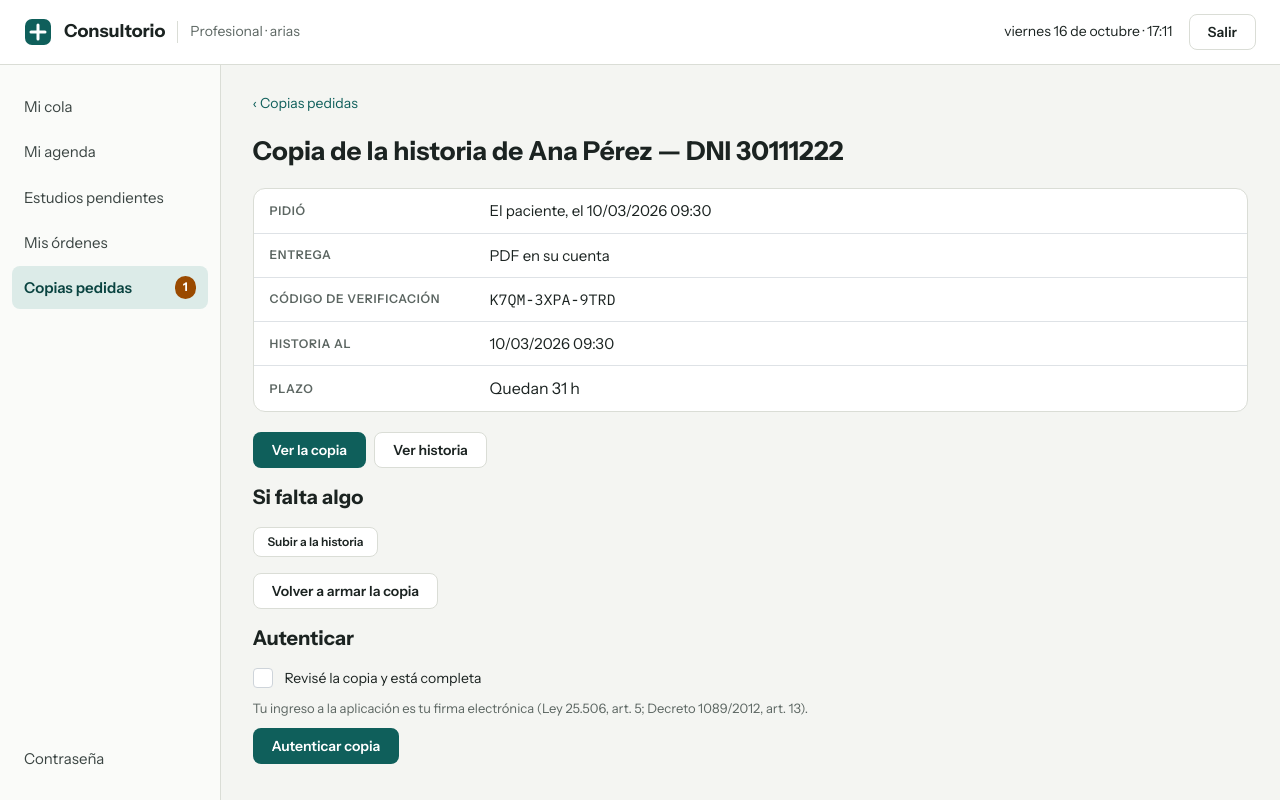
a copy › is opened in the browser, put together again, and authenticated saying it was reviewed, of the assembly seen
Check: the text "Quedan 31 h" is shown, box [490,378,580,398]
Click the button "Volver a armar la copia" at (345, 591), box [252,573,438,609]
(page scrolled)
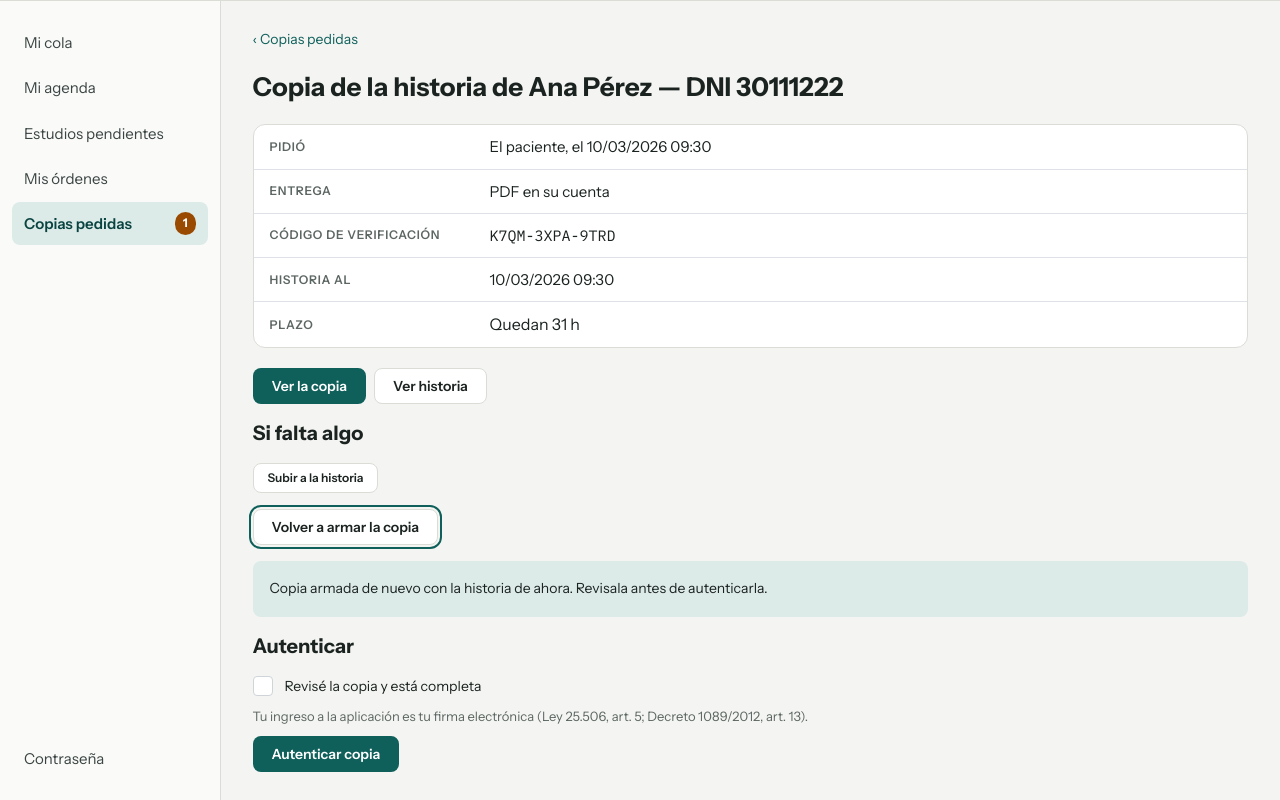
Check: the text "Copia armada de nuevo con la historia de ahora. Revisala antes de autenticarla." is shown, box [270,579,768,597]
Click the button "Autenticar copia" at (326, 754), box [252,736,399,772]
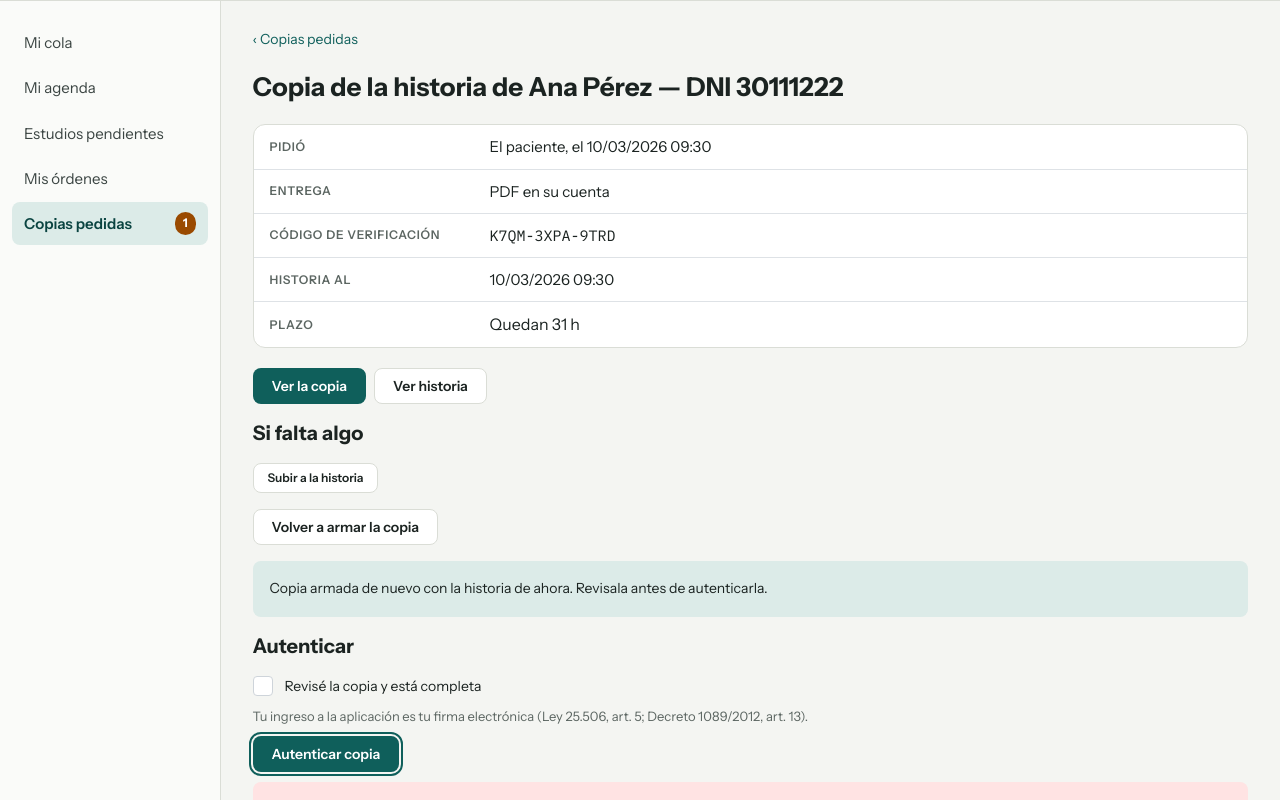
Click the checkbox labelled "Revisé la copia y está completa" at (262, 686), box [252,676,272,696]
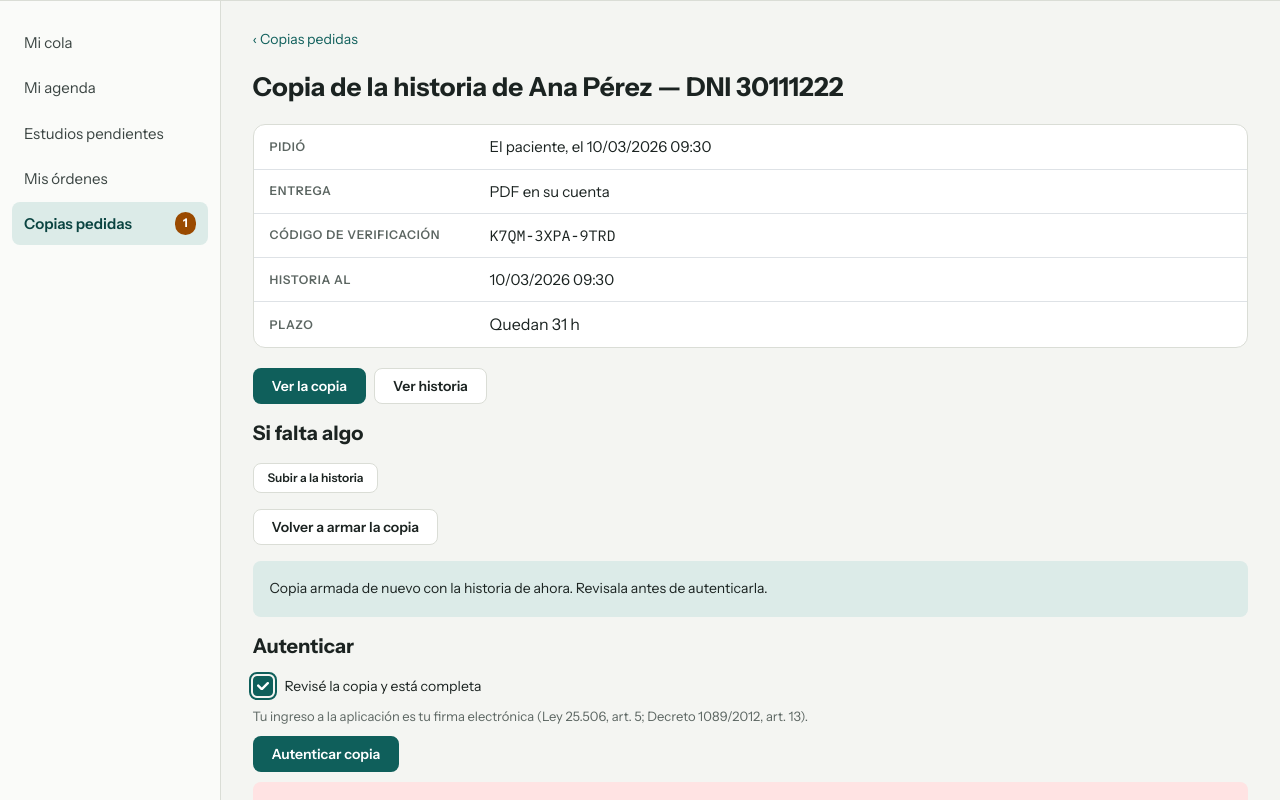
Click the button "Autenticar copia" at (326, 754), box [252,736,399,772]
(page scrolled)
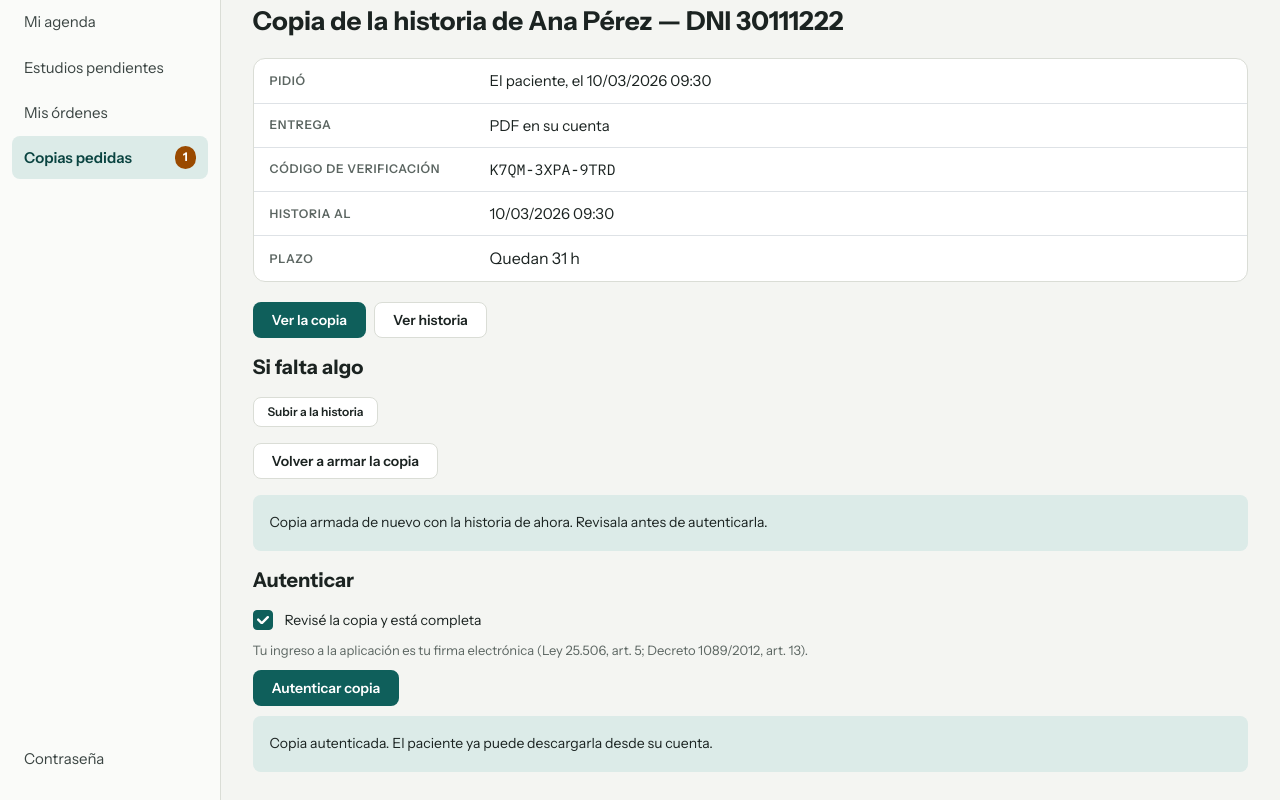
Check: the text "Copia autenticada. El paciente ya puede descargarla desde su cuenta." is shown, box [270,734,713,752]
